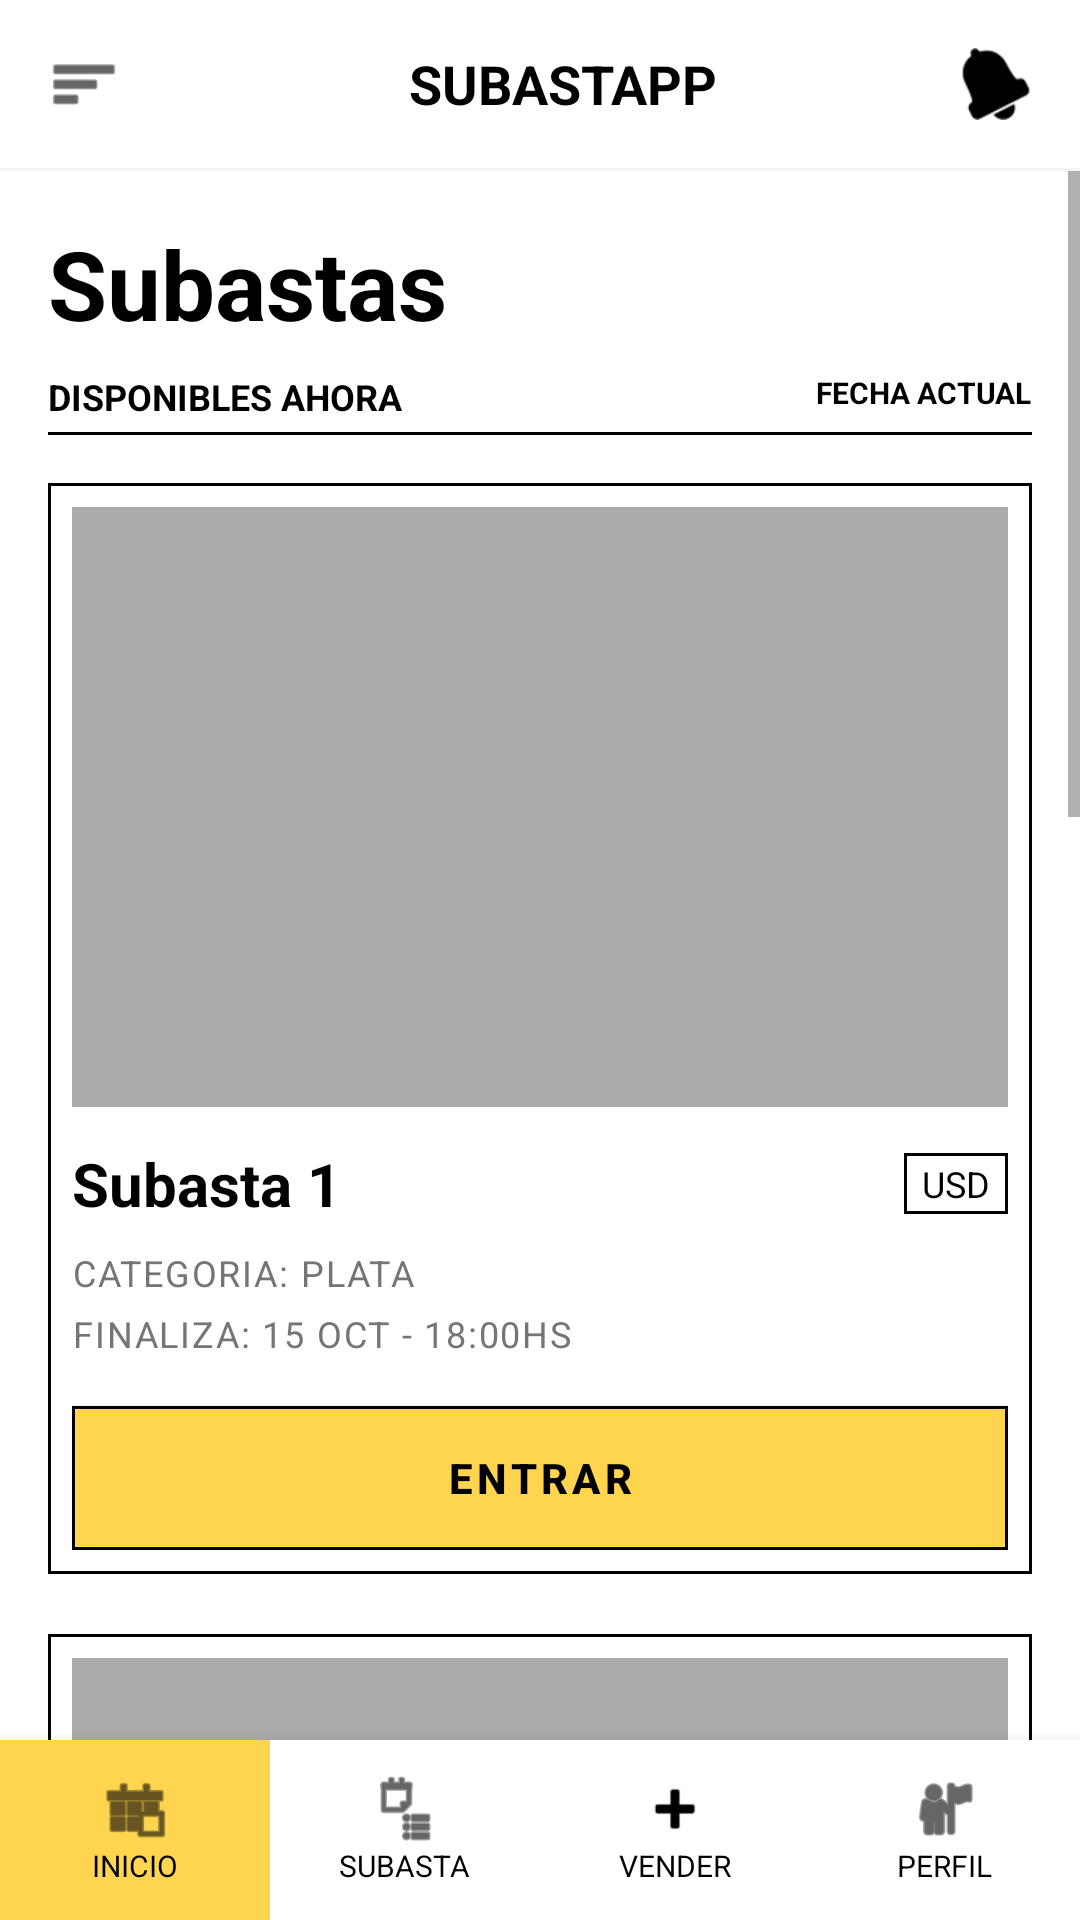

Icon bounding boxes for this 1080 × 1920 phone screenshot, format box=[x1, y1, x2, y2]:
add: box=[654, 1789, 696, 1829]
agenda: box=[380, 1777, 431, 1841]
myplaces: box=[919, 1782, 973, 1836]
popup reminder: box=[962, 48, 1030, 120]
sort by size: box=[53, 64, 115, 105]
today: box=[106, 1783, 165, 1838]
